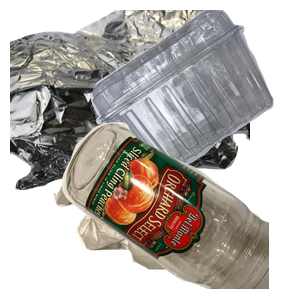glass: (60, 120, 300, 300)
metal: (10, 10, 250, 190)
plastic: (88, 10, 300, 180)
trash: (51, 155, 261, 300)
